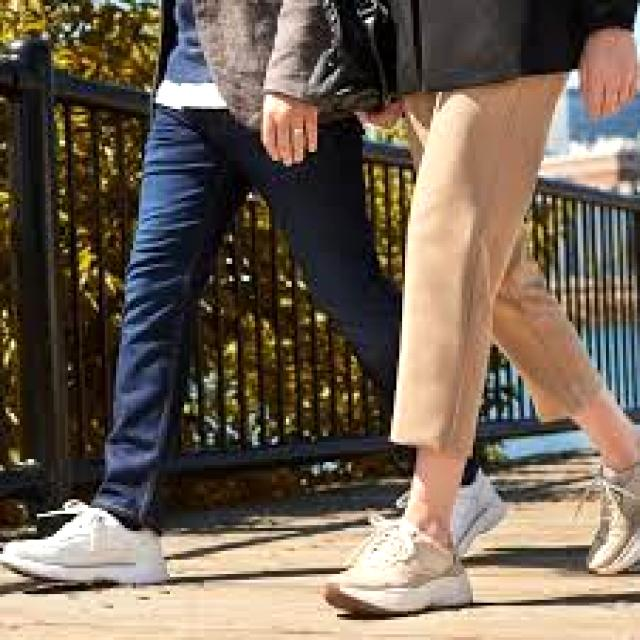foot-wear: (326, 520, 472, 617), (0, 503, 167, 585), (384, 466, 503, 556), (583, 436, 640, 574)
